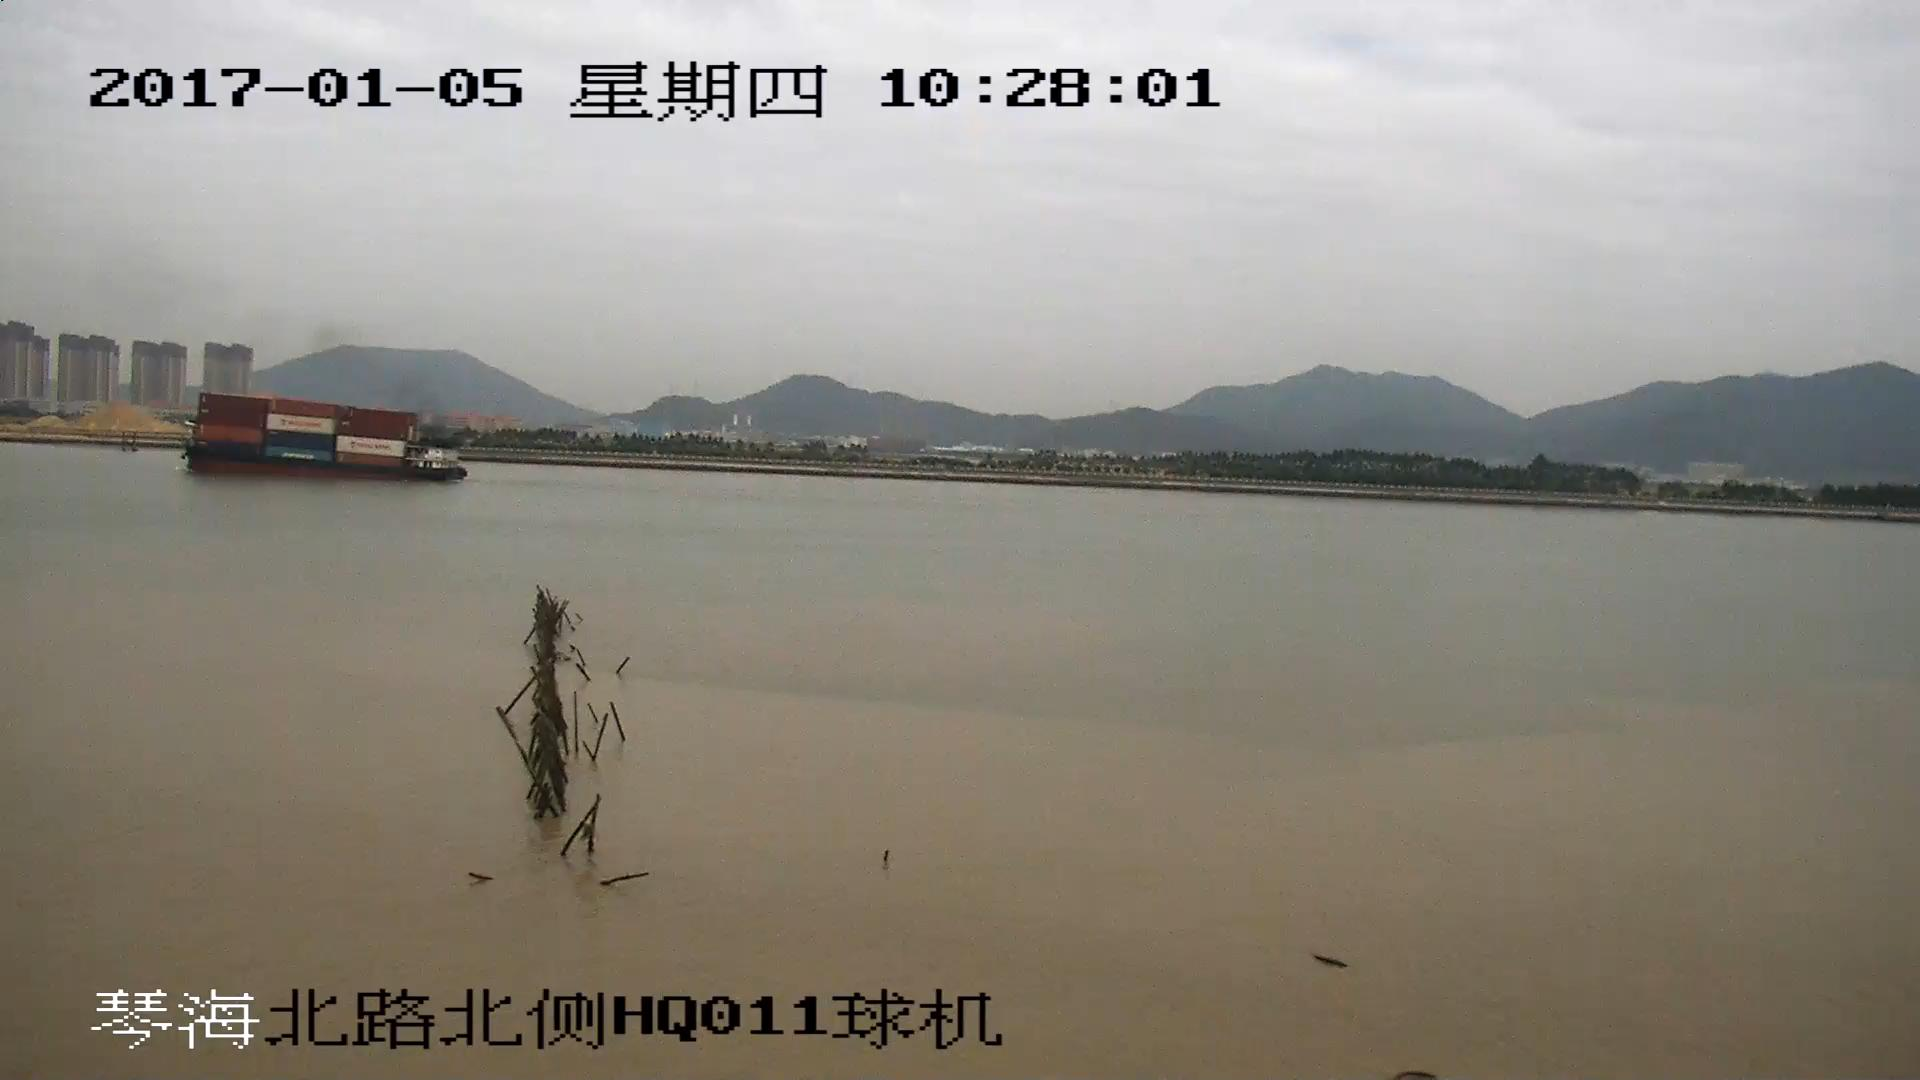container ship: (175, 392, 469, 481)
